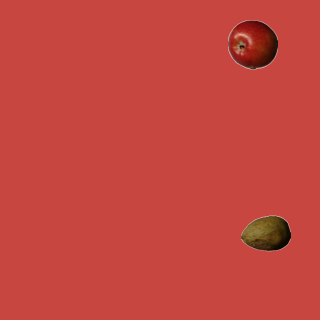Apple Braeburn: (227, 19, 277, 69)
Papaya: (240, 208, 290, 258)
